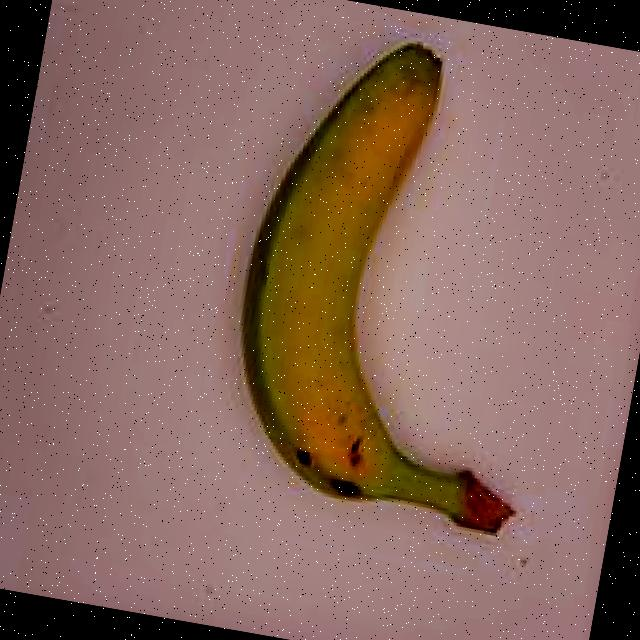Unripe: (139, 0, 637, 597)
